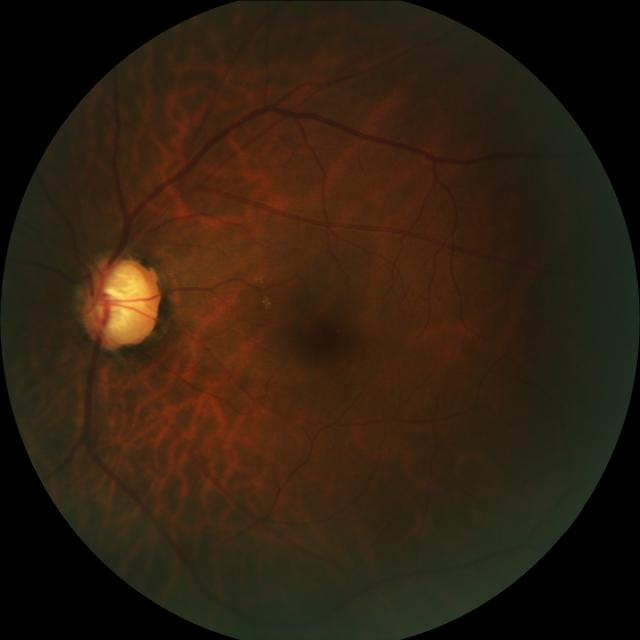OC: (90, 262, 150, 334)
OD: (80, 256, 158, 347)
